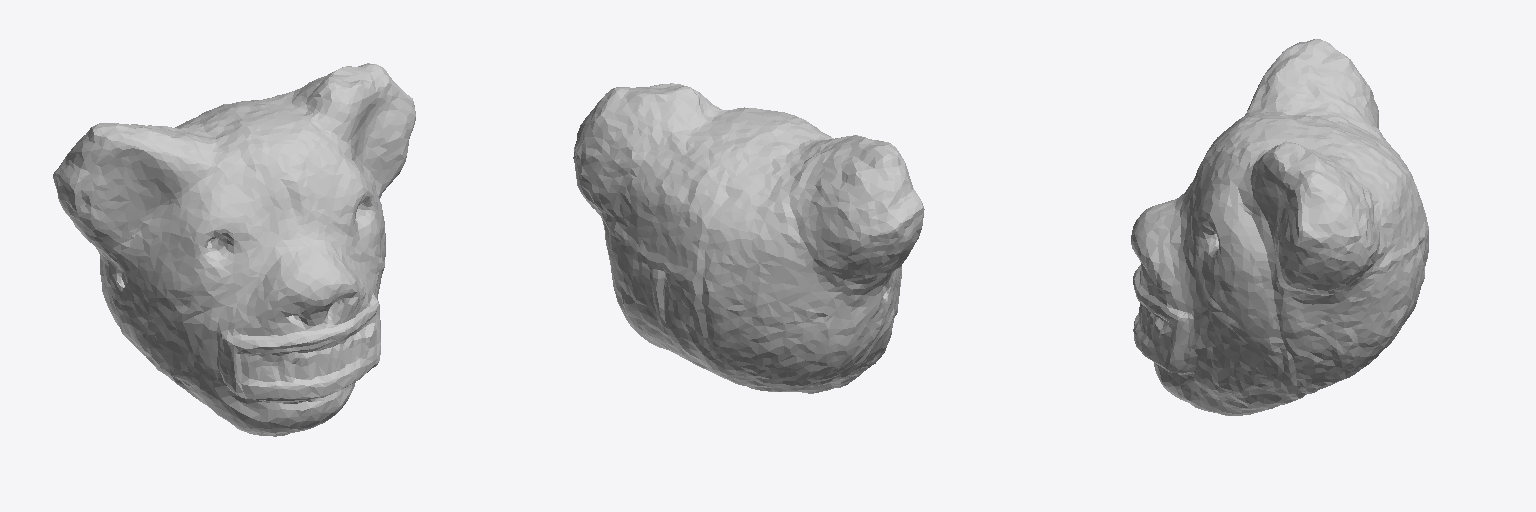
The model's file is Tigrillo_0426192344_texture.obj.
3 renders of one model, left to right at view 1: azimuth 30°, elevation 25°; view 2: azimuth 150°, elevation 25°; view 3: azimuth 270°, elevation 25°, orthographic.
Visible parts, largest first — view 1: Tigrillo_[number redacted]_texture; view 2: Tigrillo_[number redacted]_texture; view 3: Tigrillo_[number redacted]_texture.
Part boxes in pixels (x1,y1,x2,y2): Tigrillo_[number redacted]_texture: (53, 63, 415, 436); Tigrillo_[number redacted]_texture: (573, 83, 924, 393); Tigrillo_[number redacted]_texture: (1131, 39, 1428, 415).
Bounding box in the file's own units: 2 × 1.7 × 1.51.